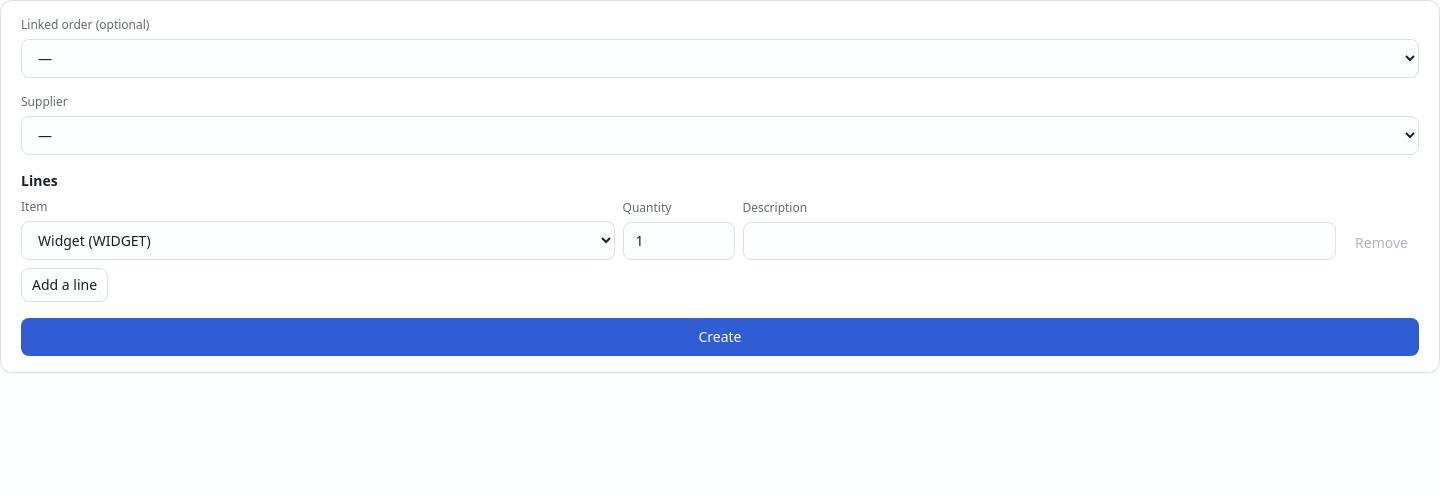
Test: GoodsReceiptForm › grows lines and shows the refusal without navigating
Check: the dropdown labelled "Supplier" is shown, box [21,116,1419,155]
Click the button "Add a line" at (65, 285), box [21,268,108,302]
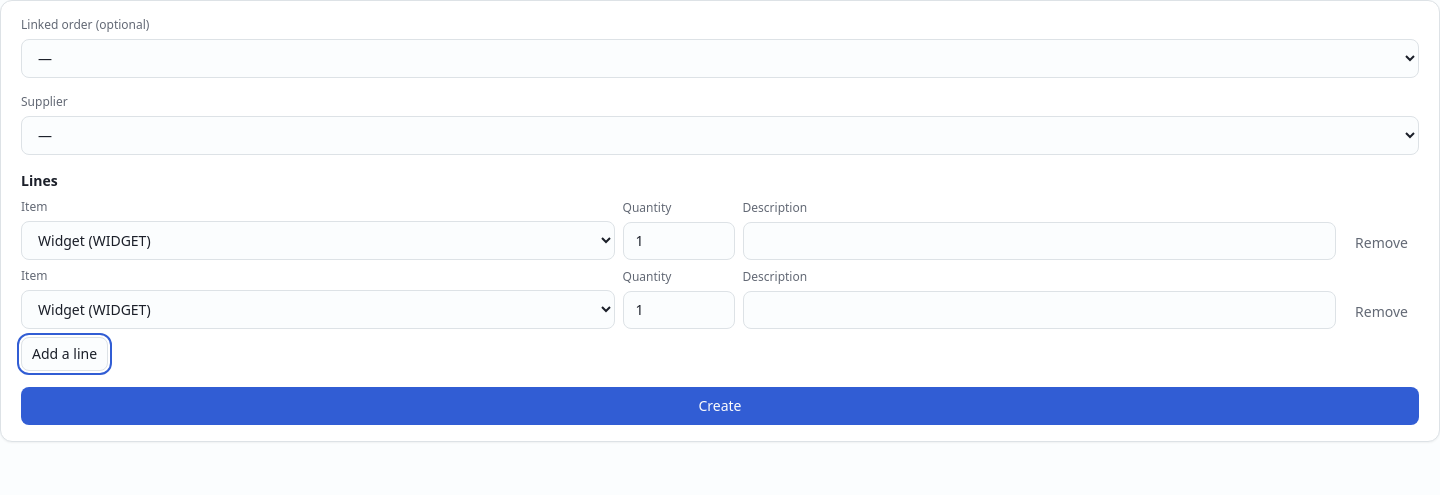
Check: the number of fields labelled "Quantity" is 2, box [622,222,734,260]; [622,291,734,329]
Click the button "Create" at (720, 406), box [21,387,1419,425]
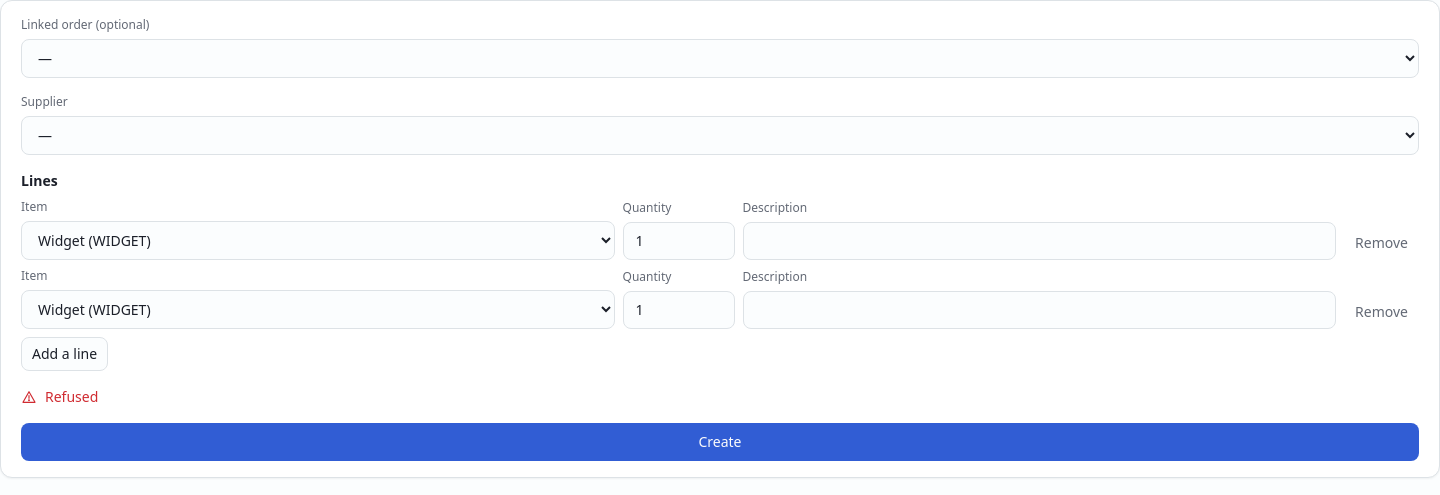
Check: the message reads "Refused", box [45,387,98,406]
